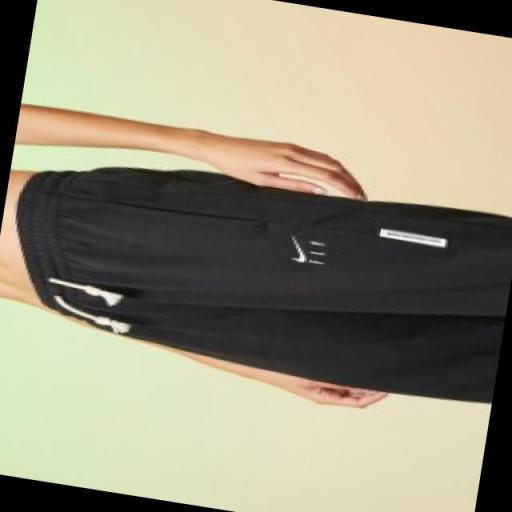Nike: (280, 233, 313, 268)
